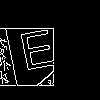E: (15, 19, 59, 71)
